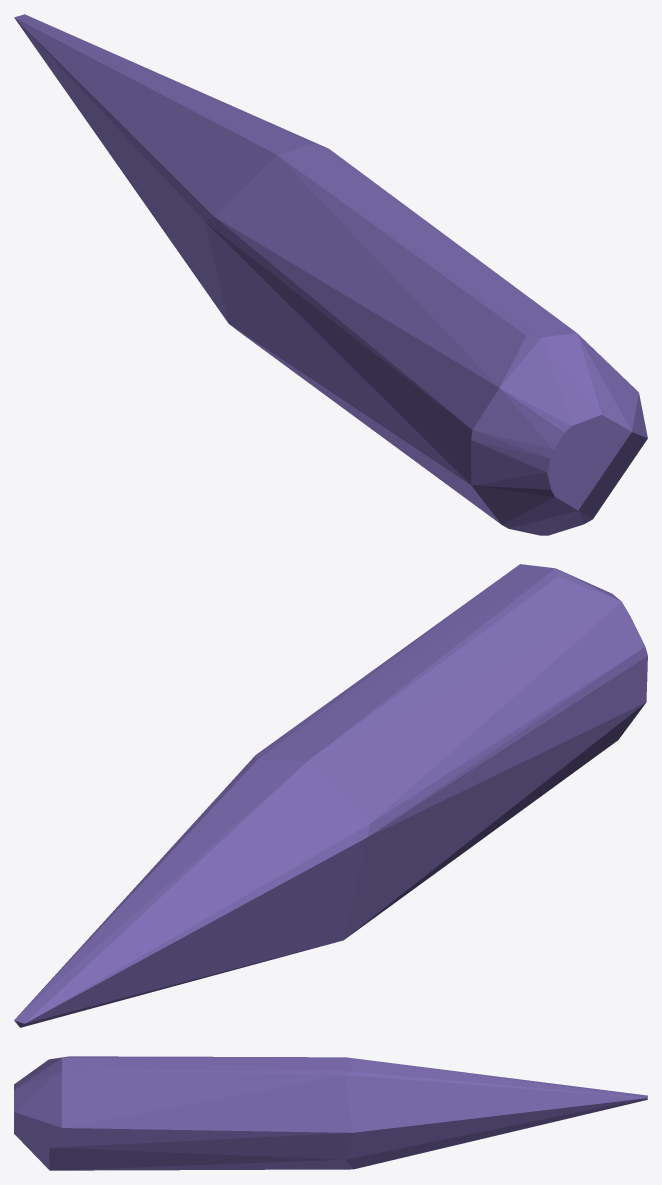
The model's file is cleaning_soapDispenser_c01.glb.
3 renders of one model, top to bottom at view 1: azimuth 30°, elevation 25°; view 2: azimuth 150°, elevation 25°; view 3: azimuth 270°, elevation 25°, orthographic. The views are drawn at different scales.
Visible parts, largest first — view 1: geometry_0; view 2: geometry_0; view 3: geometry_0.
Boxes of the visible parts, bbox=[...] form: geometry_0: bbox=[14, 14, 647, 535]; geometry_0: bbox=[14, 564, 647, 1027]; geometry_0: bbox=[14, 1056, 647, 1170].
Size of the model in its own units: 0.0865 by 0.0884 by 0.48.
